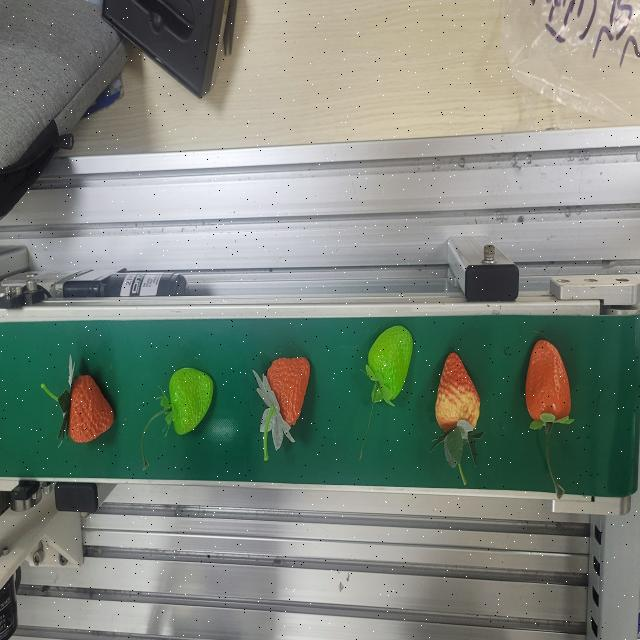Moldy Strawberry: (433, 350, 485, 442)
Small Ripe Strawberry: (255, 352, 311, 450), (524, 334, 576, 436), (55, 364, 119, 446)
Small Unripe Strawberry: (162, 361, 218, 443), (366, 321, 417, 407)
